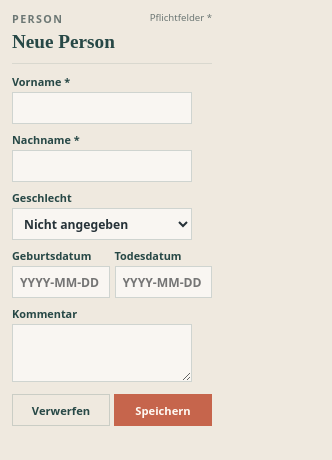
Test: PersonInspector › shows the domain error next to the affected field
Click the button with aria-label "Person speichern" at (163, 410), box x1=114 y1=394 x2=212 y2=426
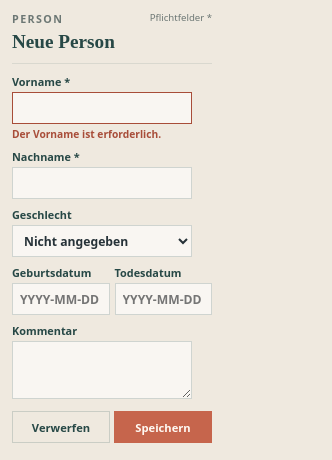
expect the text "Der Vorname ist erforderlich." is shown: met, box x1=12 y1=127 x2=161 y2=141
